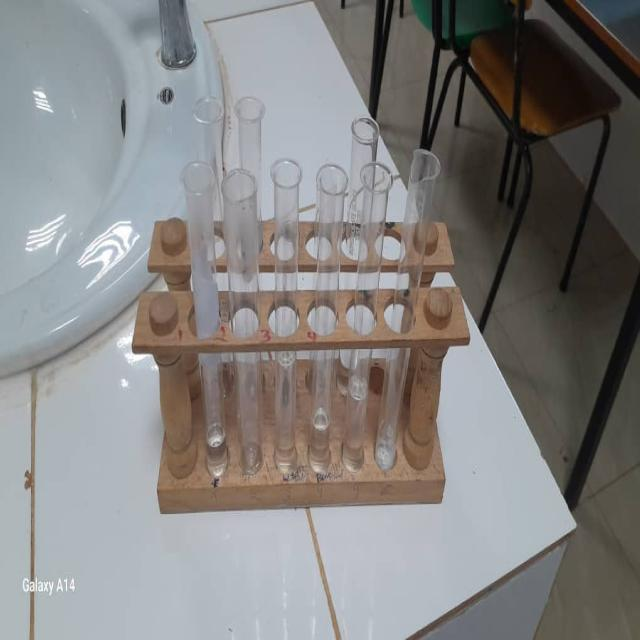Test Tube Racks: (148, 211, 466, 523)
